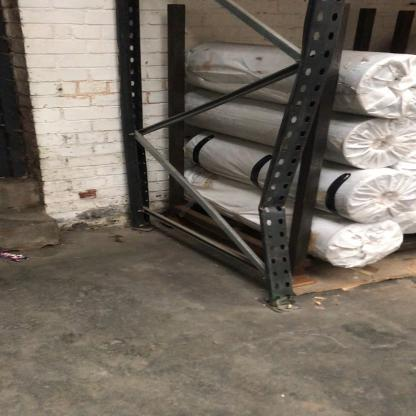vertical_damage: (248, 159, 316, 240)
